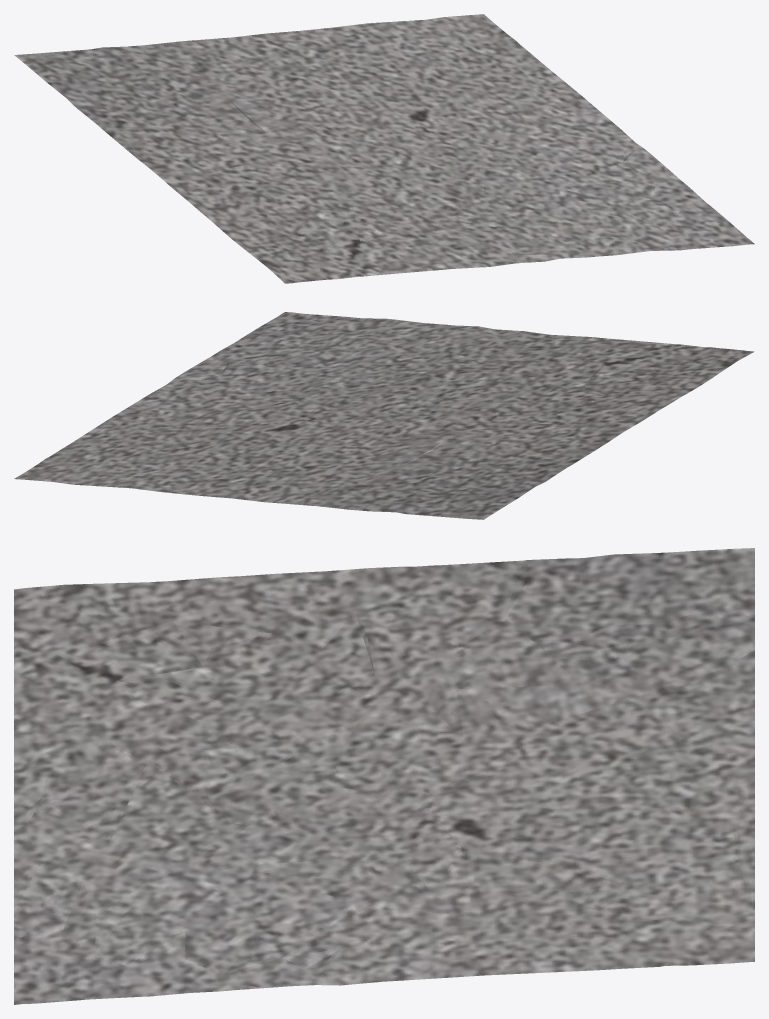
3 views of the same model, one above another, from view 1: azimuth 30°, elevation 25°; view 2: azimuth 150°, elevation 25°; view 3: azimuth 270°, elevation 25° (orthographic). The views are drawn at different scales.
Bounding box in the file's own units: 0.8373 × 0.1793 × 0.8374.
3 materials, 3 textured.
